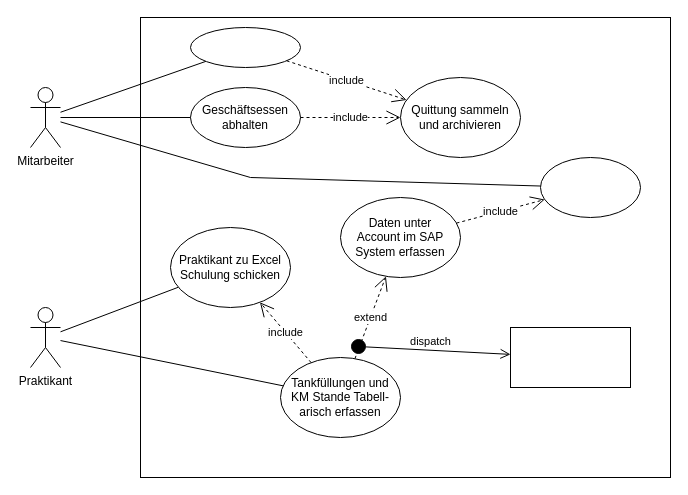
Some shapes in this 688 by 495 pixel diagram are drawn without their labels. The shapes that lost their labels are listed below. From the top down, each one's centre as x and y in pixels, then its label:
At point 245,47: "Tanken".
At point 590,187: "Daten auswerten".
At point 570,357: "Wenn Konzernweite überprüfung".
